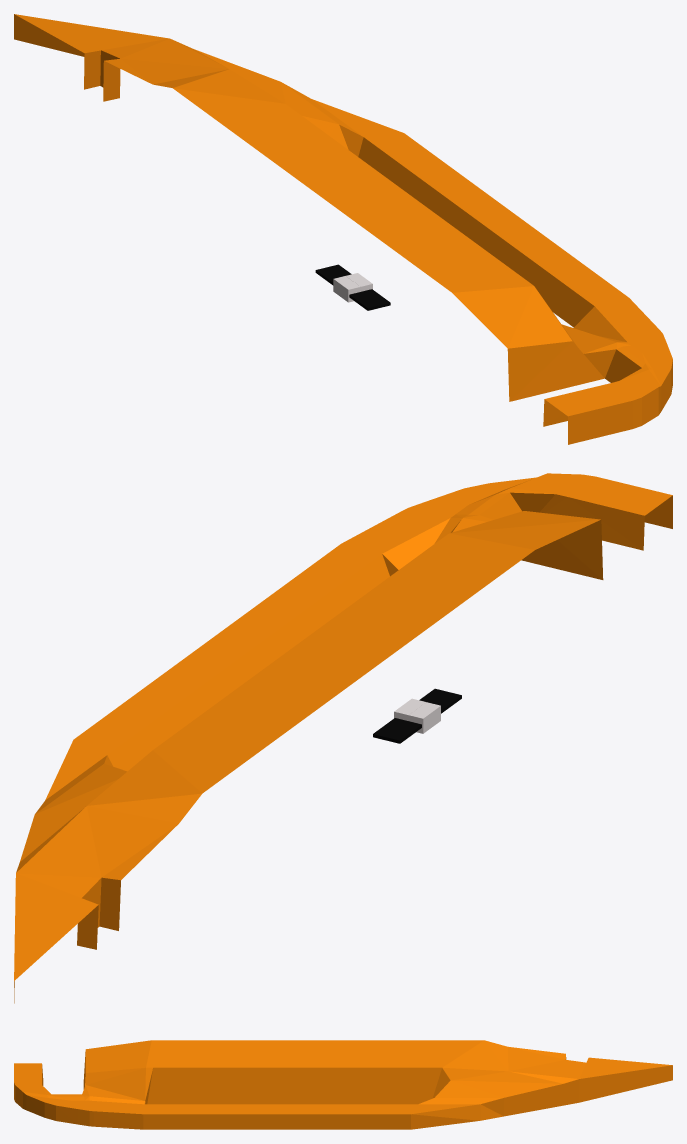
File: buoy.dae
3 views of the same model, one above another, from view 1: azimuth 30°, elevation 25°; view 2: azimuth 150°, elevation 25°; view 3: azimuth 270°, elevation 25° (orthographic). The views are drawn at different scales.
Parts seen in each view (by area): view 1: Rescue_Bouy, Belt, Leash.Cap; view 2: Rescue_Bouy, Belt, Leash.Cap; view 3: Rescue_Bouy.
Part boxes in pixels (<box>): Rescue_Bouy: <box>14,14,672,444</box>; Belt: <box>315,264,390,310</box>; Leash.Cap: <box>333,273,372,302</box>; Rescue_Bouy: <box>14,473,672,1003</box>; Belt: <box>373,688,461,743</box>; Leash.Cap: <box>394,698,440,733</box>; Rescue_Bouy: <box>14,1040,672,1129</box>.
Size of the model in its own units: 0.1401 by 0.737 by 0.0541.
